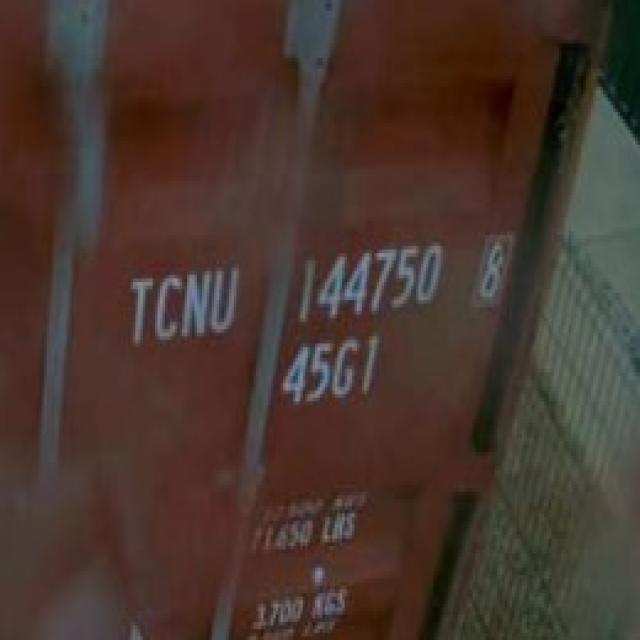dv: (468, 224, 511, 310)
owner: (120, 257, 243, 351)
serial: (291, 230, 445, 328)
size: (274, 328, 391, 411)
